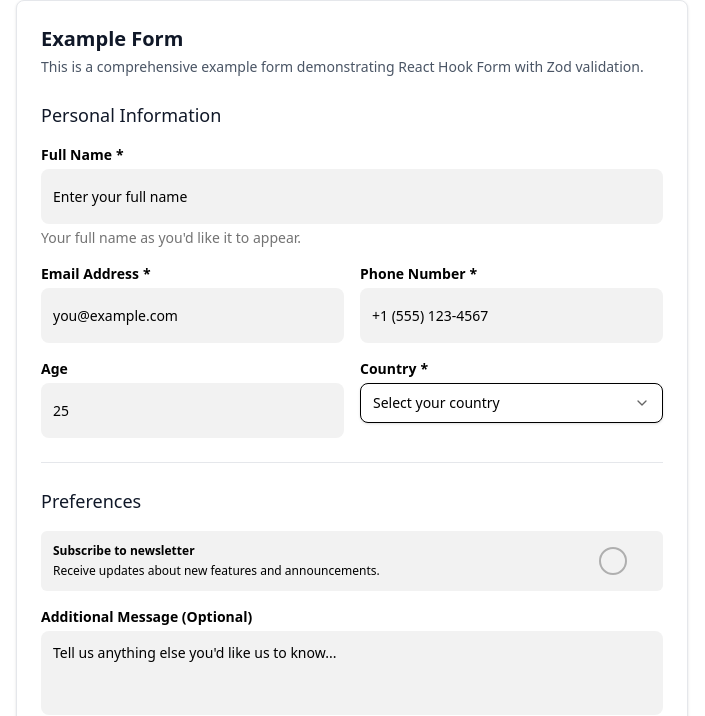
ExampleForm › shows newsletter preferences when newsletter is checked
The image size is (705, 716).
Click the checkbox labelled "Subscribe to newsletter": {"x": 352, "y": 561} 41,531 -> 663,591
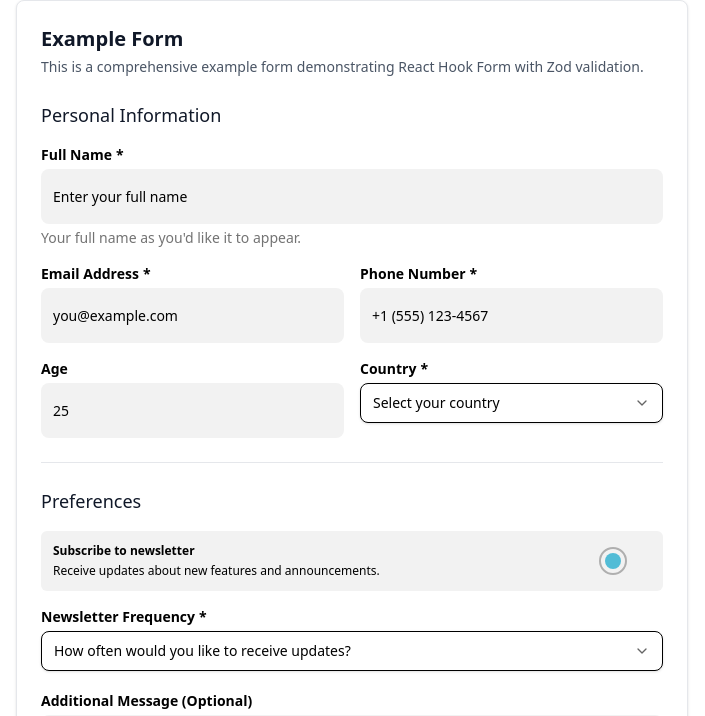
expect the dropdown named "newsletter frequency" is shown: met, box 41,631 -> 663,671
